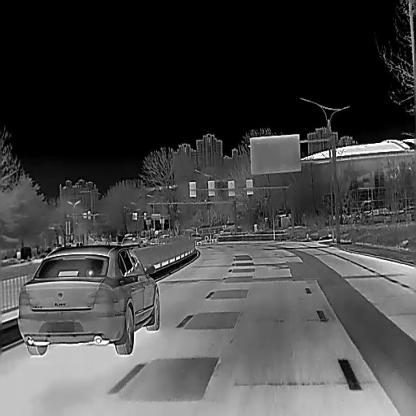car: (15, 244, 160, 354), (189, 233, 202, 246)
